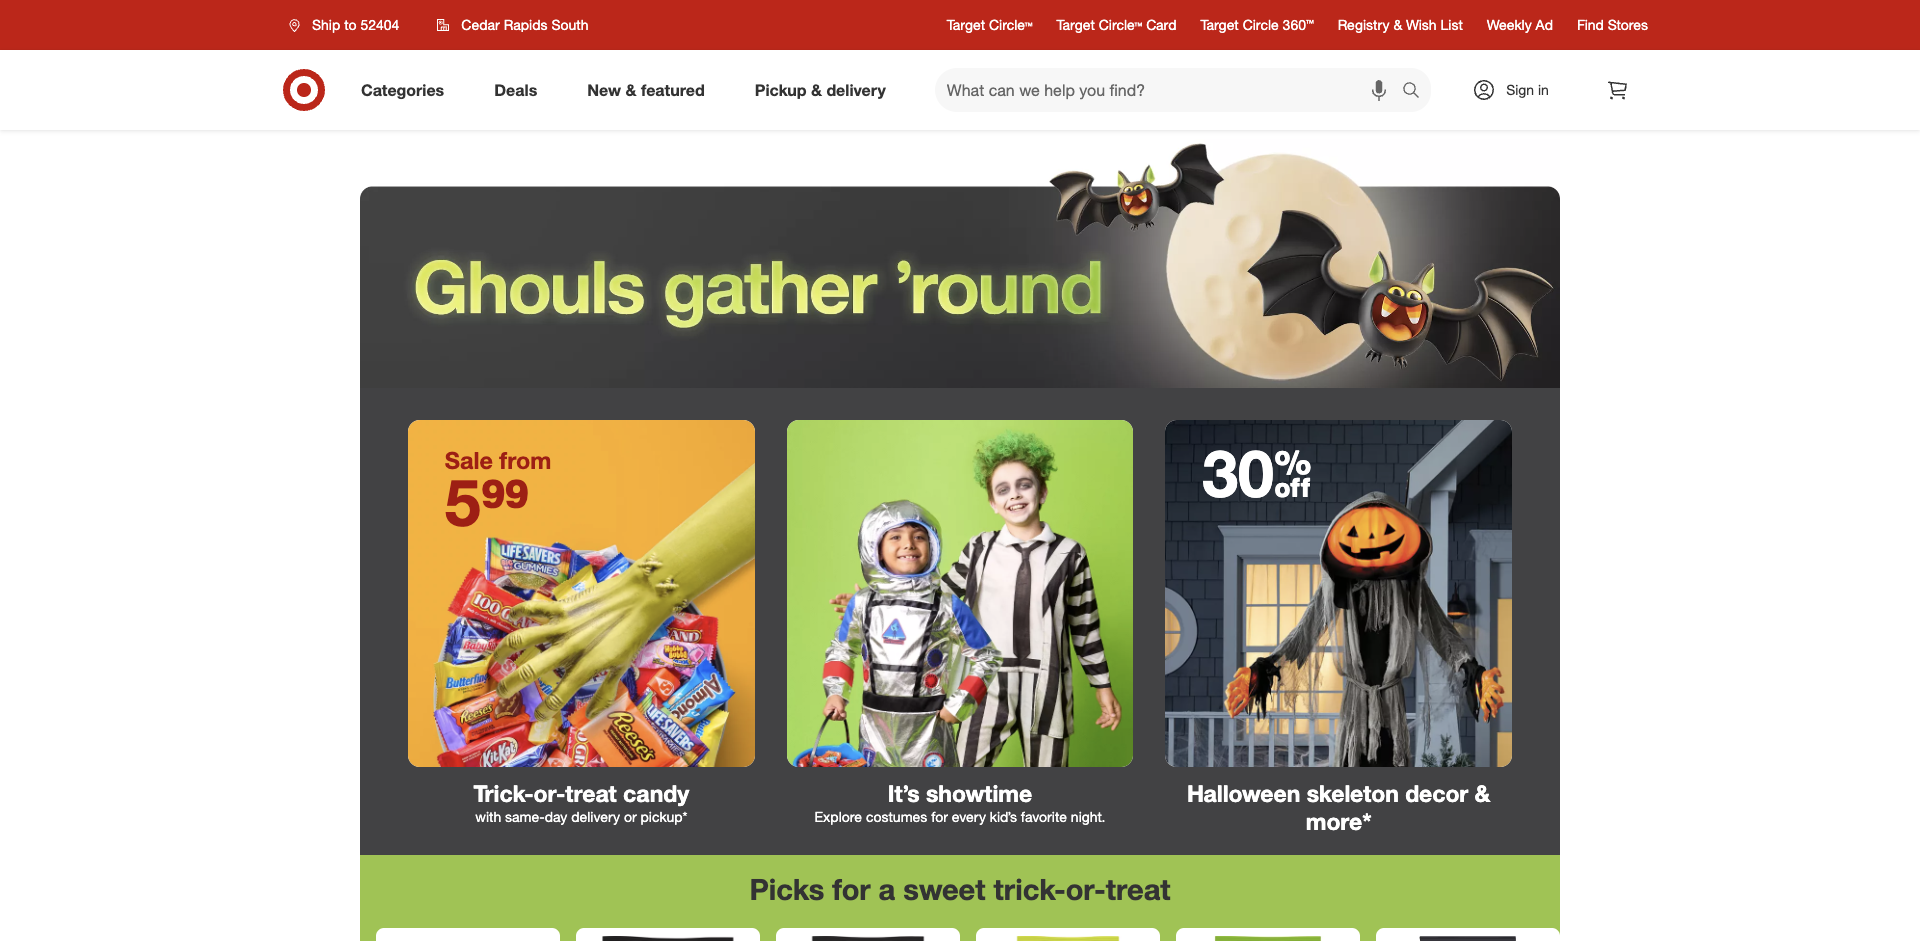button: (425, 7, 601, 43), (276, 7, 420, 43), (1393, 67, 1431, 116), (1365, 74, 1393, 107)
input: (934, 67, 1407, 111)
link: (360, 130, 1560, 388), (770, 404, 1150, 839), (392, 404, 770, 839), (1150, 404, 1528, 836), (737, 67, 911, 111), (571, 67, 730, 111), (344, 67, 469, 111), (1455, 67, 1580, 111), (478, 67, 562, 111), (280, 66, 328, 114), (1596, 67, 1640, 111), (1337, 18, 1463, 32), (1057, 18, 1177, 32), (1200, 18, 1314, 32), (947, 18, 1032, 32), (1577, 18, 1648, 32), (1487, 18, 1553, 32), (384, 936, 552, 941), (584, 936, 752, 941), (784, 936, 951, 941), (984, 936, 1152, 941), (1184, 936, 1352, 941), (1384, 936, 1551, 941), (1584, 936, 1752, 941), (1784, 936, 1920, 941)
